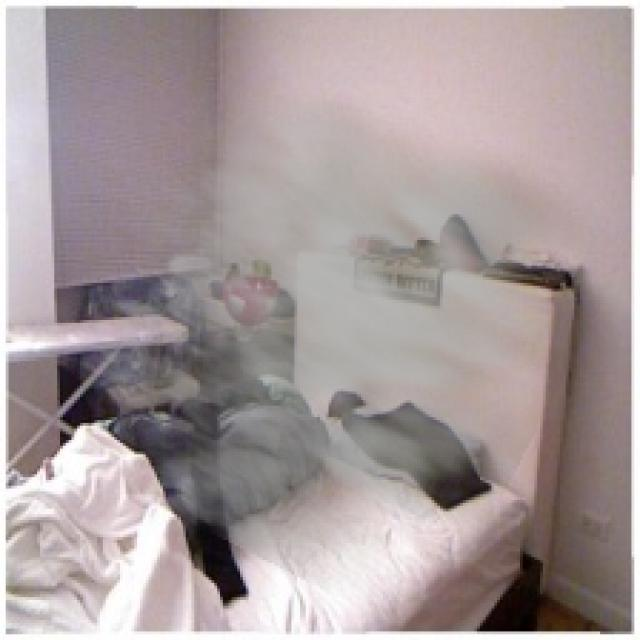smoke: (74, 74, 632, 600)
